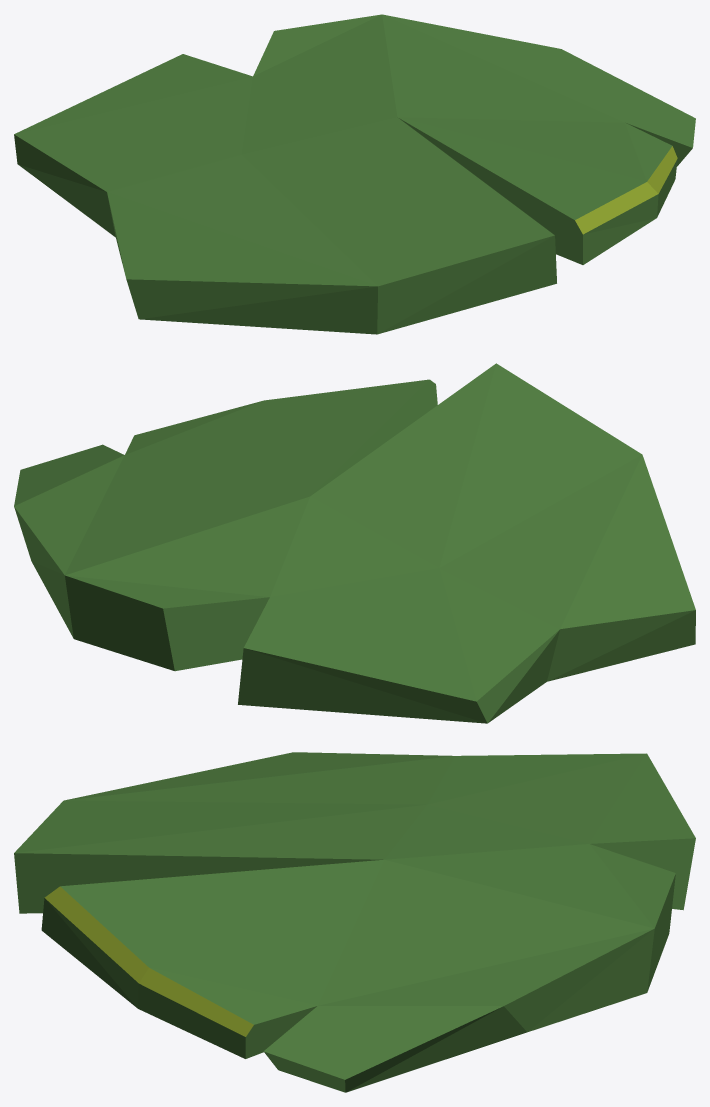
The model's file is EA_M_Env_Leaf_03a.fbx.
The picture shows the model from 3 angles, top to bottom: view 1: azimuth 30°, elevation 25°; view 2: azimuth 150°, elevation 25°; view 3: azimuth 270°, elevation 25°; orthographic projection. The views are drawn at different scales.
Visible parts, largest first — view 1: EA_M_Env_Leaf_03a_LOD0; view 2: EA_M_Env_Leaf_03a_LOD0; view 3: EA_M_Env_Leaf_03a_LOD0.
Part boxes in pixels (x1,y1,x2,y2): EA_M_Env_Leaf_03a_LOD0: (14,14,695,334); EA_M_Env_Leaf_03a_LOD0: (14,363,695,723); EA_M_Env_Leaf_03a_LOD0: (14,752,695,1092).
Size of what is drawn, in the model's own units: 0.309 by 0.0484 by 0.272.
